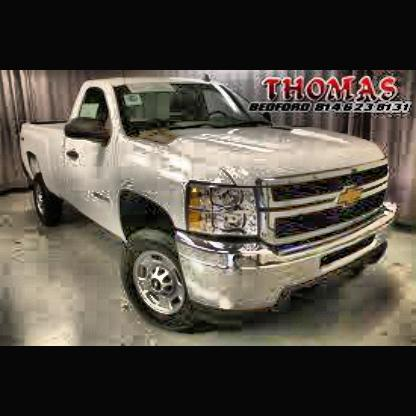Chevrolet Silverado 2500HD Regular Cab 2012: (17, 81, 401, 336)
